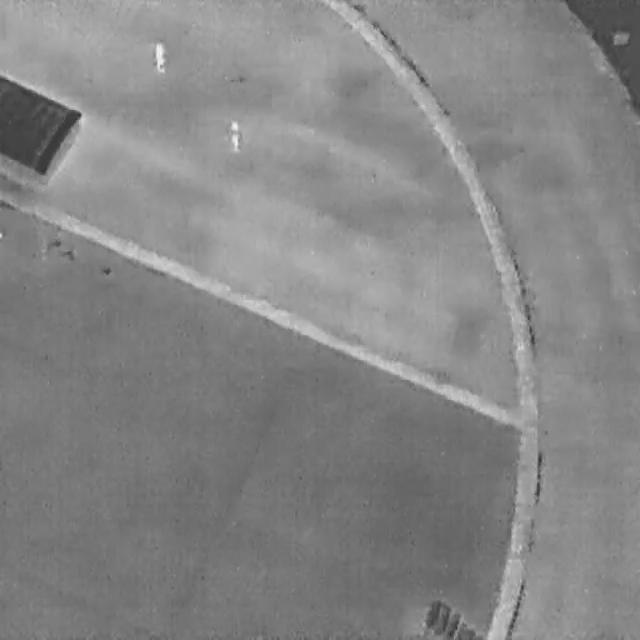Person: (152, 38, 166, 72), (227, 118, 242, 148)
